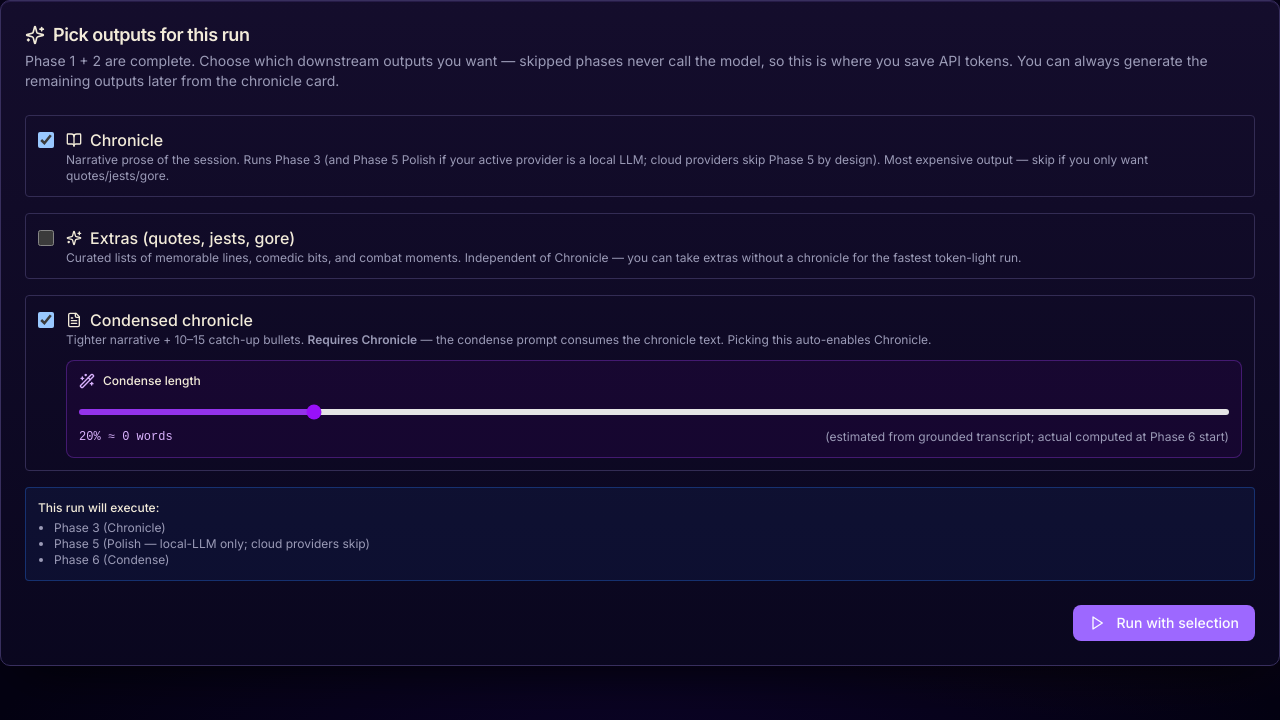
Test case: OutputPicker — Condensed ↔ Chronicle dependency › unchecking Chronicle auto-unchecks Condensed
Expected: the checkbox named "generate condensed chronicle" is checked, [38, 312, 54, 328]
Click the checkbox named "generate chronicle" at (46,140), box [38, 132, 54, 148]
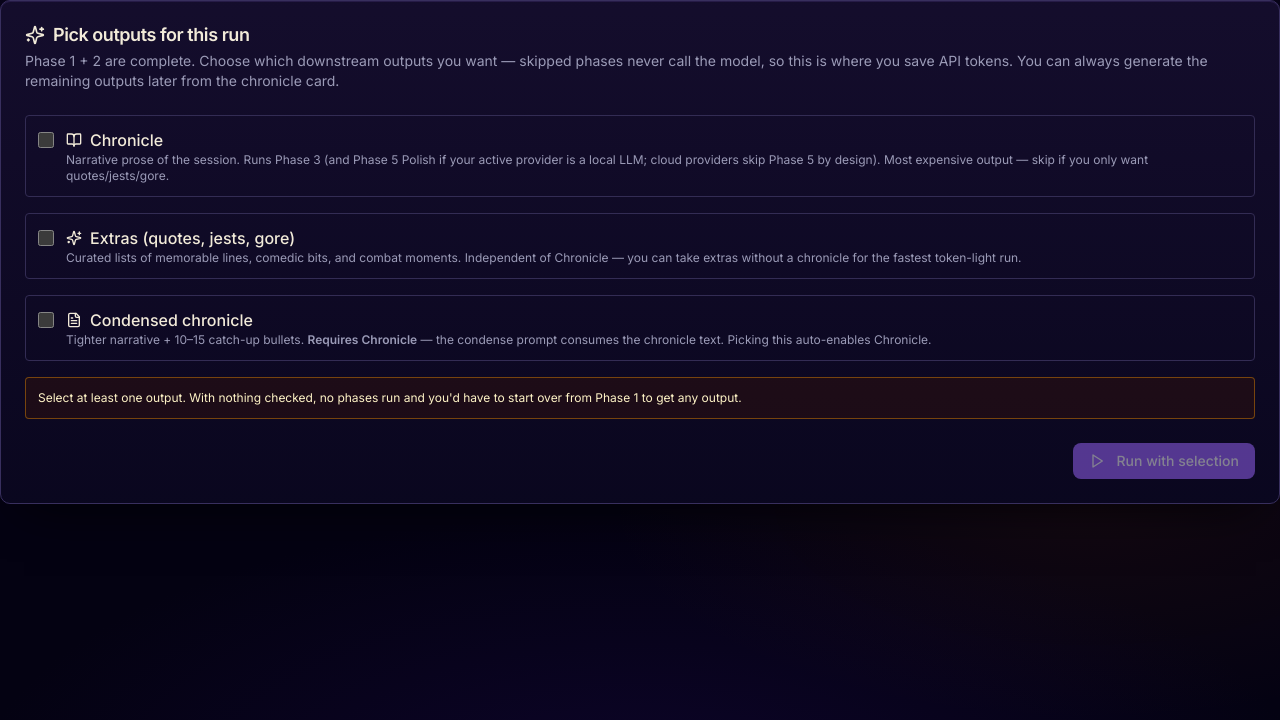
Expected: the checkbox named "generate chronicle" is not checked, [38, 132, 54, 148]
Expected: the checkbox named "generate condensed chronicle" is not checked, [38, 312, 54, 328]
